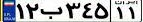character: (40, 1, 63, 22), (63, 1, 81, 22), (94, 1, 109, 22), (25, 1, 39, 21), (81, 1, 94, 22), (16, 2, 26, 22), (115, 6, 126, 20), (128, 5, 137, 22)
